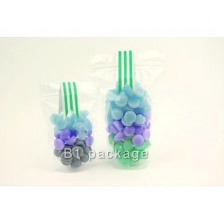snack: (83, 40, 171, 175), (35, 75, 100, 178)
